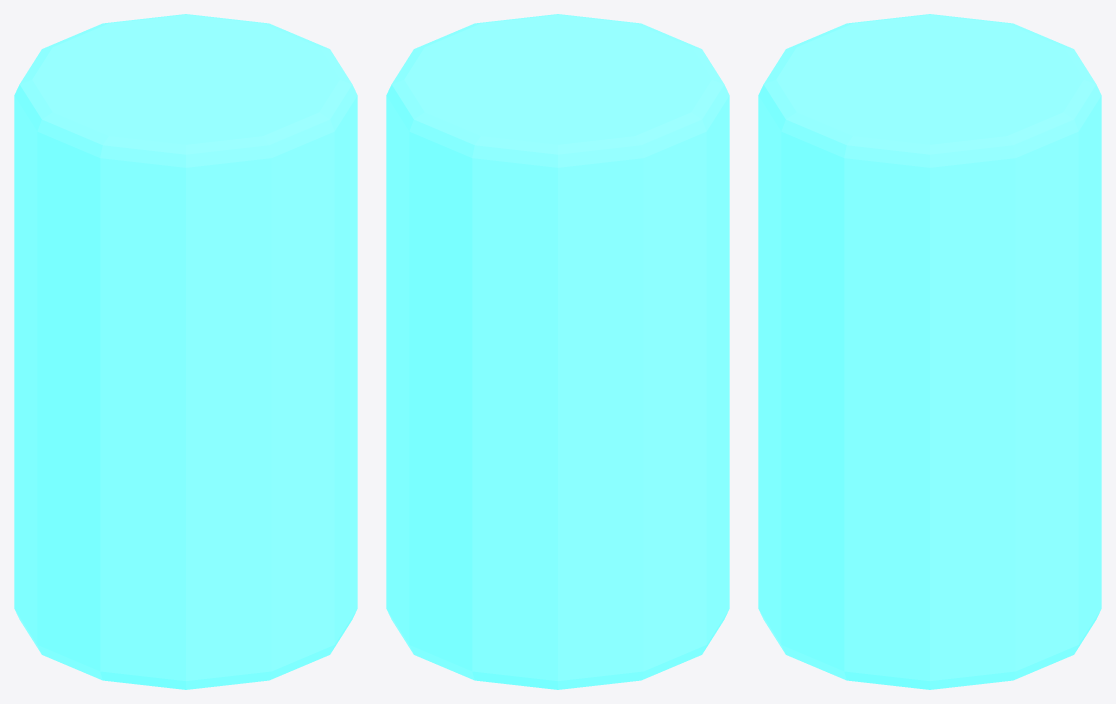
The model's file is SM_Lab_SampleCanister__Sample.fbx.
3 renders of one model, left to right at view 1: azimuth 30°, elevation 25°; view 2: azimuth 150°, elevation 25°; view 3: azimuth 270°, elevation 25°, orthographic.
Parts seen in each view (by area): view 1: SM_Lab_SampleCanister__Sample; view 2: SM_Lab_SampleCanister__Sample; view 3: SM_Lab_SampleCanister__Sample.
Part boxes in pixels (box(x1,y1,x2,y2)): SM_Lab_SampleCanister__Sample: box(14, 14, 357, 689); SM_Lab_SampleCanister__Sample: box(386, 14, 729, 689); SM_Lab_SampleCanister__Sample: box(758, 14, 1101, 689).
Size of the model in its own units: 4 by 4 by 7.
